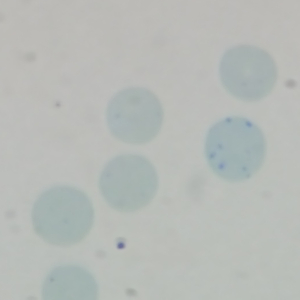erythrocyte: (97, 152, 158, 212)
punctate reticulocyte: (203, 115, 269, 183), (29, 185, 96, 248), (102, 86, 164, 147), (218, 44, 279, 102)
